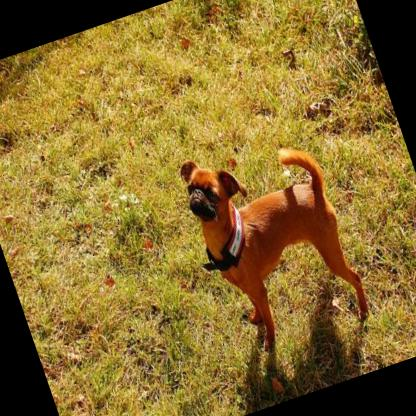Brabancon_griffon: (168, 118, 376, 366)
